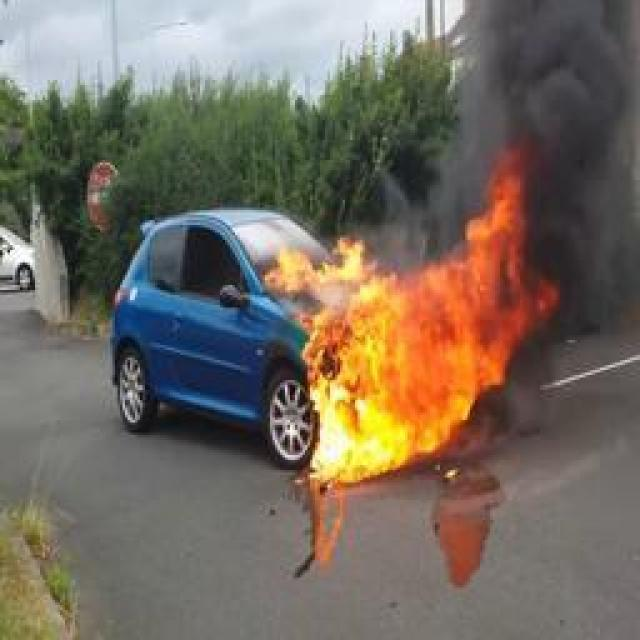Fire: (261, 135, 559, 485)
